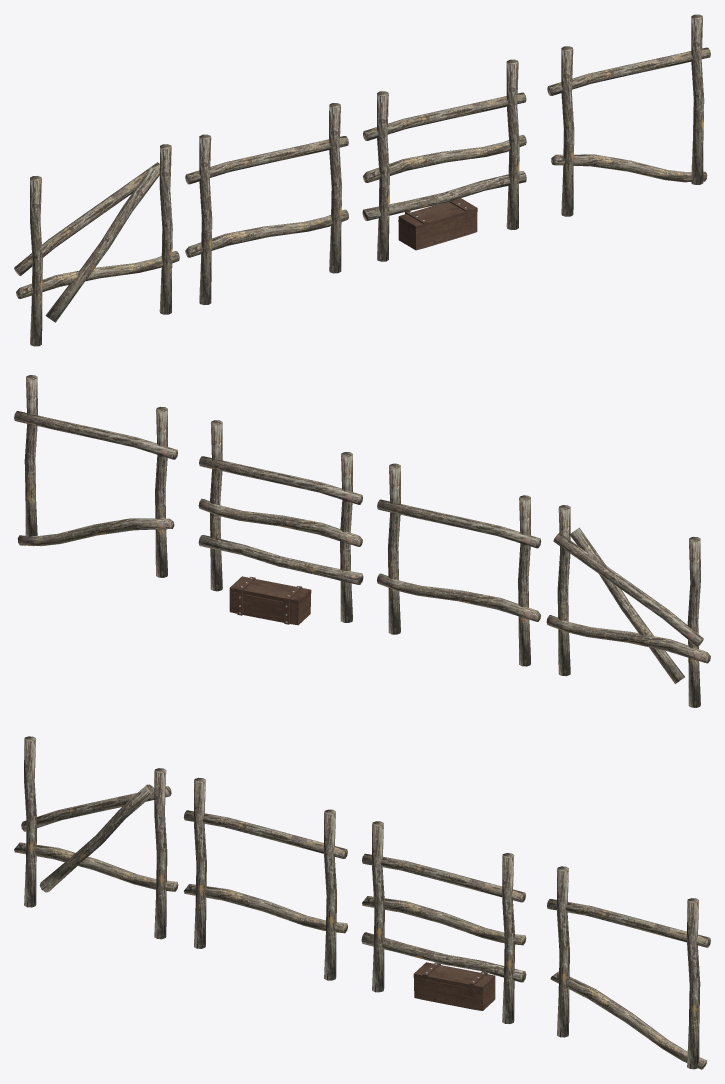
3 views of the same model, one above another, from view 1: azimuth 30°, elevation 25°; view 2: azimuth 150°, elevation 25°; view 3: azimuth 330°, elevation 25° (orthographic).
Visible parts, largest first — view 1: Wood_03.009, Wood_03.005, Wood_03.006, Wood_03.004, Wood_03.003, Wood_03.008, Wood_03.001, Wood_03.007, Wood_03.002, Wood_02, Wood_02.001, Wood_03 (+8 smaller); view 2: Wood_01.003, Wood_02.001, Wood_02, Wood_02.003, Wood_03, Wood_01, Wood_01.001, Wood_01.002, Wood_02.002, Wood_03.004, Wood_03.003, Wood_03.006 (+8 smaller); view 3: Wood_03.007, Wood_03.008, Wood_03.003, Wood_03.004, Wood_03.002, Wood_03.006, Wood_03.001, Wood_03.005, Wood_02.002, Wood_03.009, Wood_02, Wood_02.001 (+8 smaller).
Part boxes in pixels (bbox=[...]): Wood_03.009: bbox=[45, 167, 160, 322]; Wood_03.005: bbox=[199, 134, 212, 304]; Wood_03.006: bbox=[561, 46, 574, 216]; Wood_03.004: bbox=[329, 103, 341, 273]; Wood_03.003: bbox=[691, 14, 704, 184]; Wood_03.008: bbox=[30, 176, 42, 346]; Wood_03.001: bbox=[506, 59, 519, 229]; Wood_03.007: bbox=[159, 144, 172, 314]; Wood_03.002: bbox=[377, 91, 389, 261]; Wood_02: bbox=[363, 135, 526, 182]; Wood_02.001: bbox=[185, 209, 348, 257]; Wood_03: bbox=[362, 171, 526, 220]; Wood_01.003: bbox=[553, 533, 703, 646]; Wood_02.001: bbox=[377, 573, 540, 621]; Wood_02: bbox=[198, 498, 362, 546]; Wood_02.003: bbox=[546, 615, 710, 663]; Wood_03: bbox=[198, 535, 363, 584]; Wood_01: bbox=[199, 456, 362, 504]; Wood_01.001: bbox=[377, 499, 541, 548]; Wood_01.002: bbox=[14, 411, 177, 459]; Wood_02.002: bbox=[17, 518, 174, 546]; Wood_03.004: bbox=[388, 463, 400, 634]; Wood_03.003: bbox=[24, 375, 37, 546]; Wood_03.006: bbox=[155, 406, 167, 577]; Wood_03.007: bbox=[154, 768, 167, 939]; Wood_03.008: bbox=[24, 736, 37, 907]; Wood_03.003: bbox=[687, 898, 700, 1069]; Wood_03.004: bbox=[324, 809, 336, 980]; Wood_03.002: bbox=[372, 821, 384, 992]; Wood_03.006: bbox=[557, 866, 569, 1037]; Wood_03.001: bbox=[502, 853, 515, 1023]; Wood_03.005: bbox=[194, 777, 206, 948]; Wood_02.002: bbox=[550, 971, 706, 1069]; Wood_03.009: bbox=[39, 784, 154, 892]; Wood_02: bbox=[362, 896, 526, 945]; Wood_02.001: bbox=[184, 884, 347, 933].
Size of the model in its own units: 872 by 203 by 52.57.
3 materials, 3 textured.
